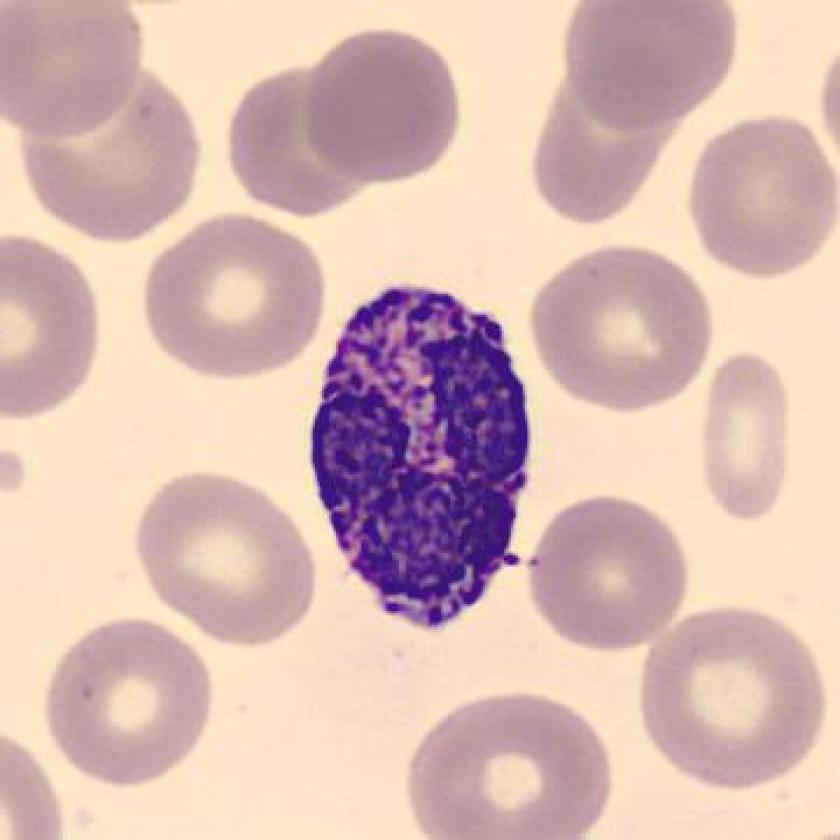basophil: (295, 269, 535, 649)
